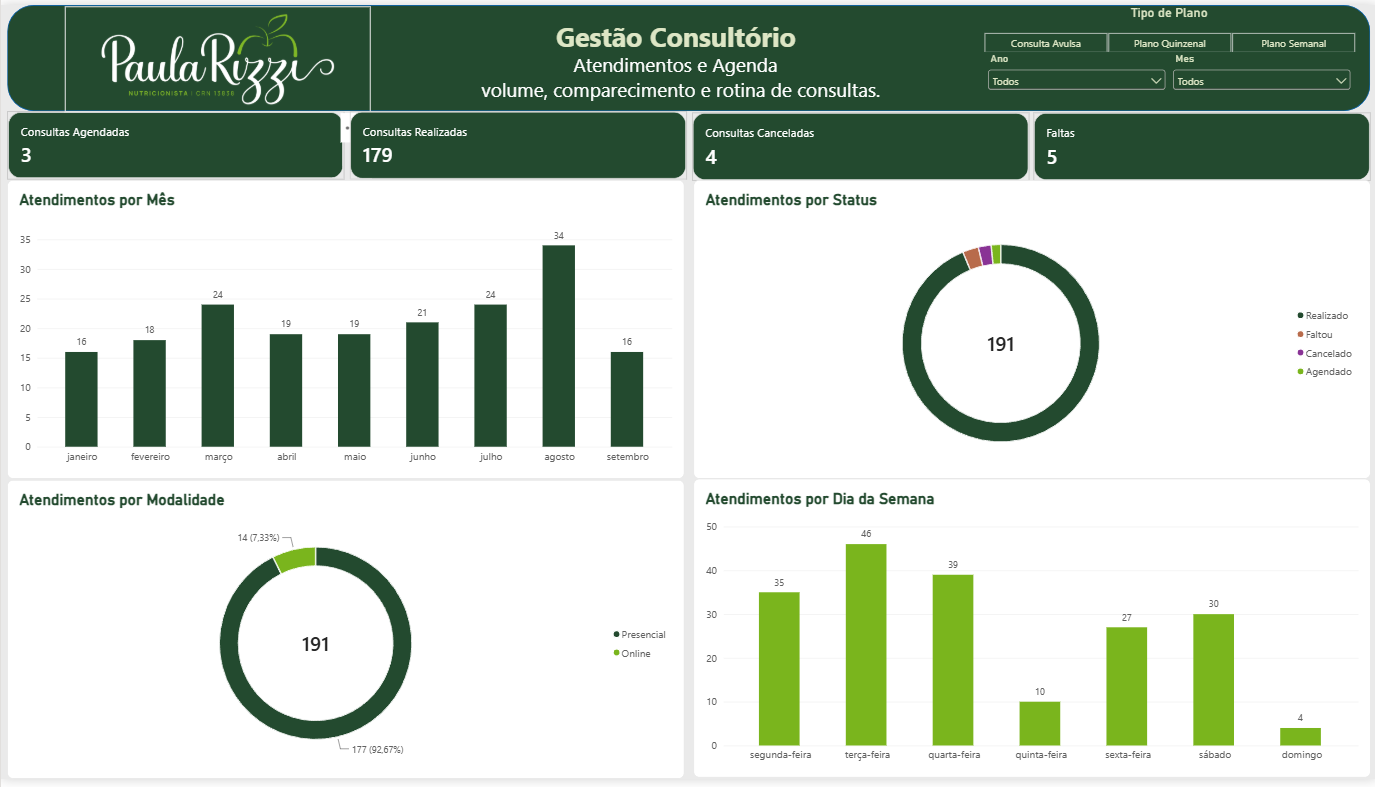

The page's visual inventory and layout, read from the dashboard file:
{"tool":"powerbi","page":{"name":"Atendimento e Agenda","canvas":[1920,1080],"ordinal":2},"visuals":[{"type":"shape","box":[9.4,0,1901.9,148.1],"z":0},{"type":"cardVisual","fields":{"Data":["Medidas.Consultas Agendadas"]},"box":[8.7,149,470,95],"z":1000},{"type":"image","box":[88.9,1.6,427.1,148.1],"z":2000},{"type":"cardVisual","fields":{"Data":["Medidas.Consultas Realizadas"]},"box":[486.3,149,470,95],"z":3000},{"type":"textbox","box":[774.8,18.7,347.9,51.5],"z":4000},{"type":"cardVisual","fields":{"Data":["Medidas.Consultas Canceladas"]},"box":[963.8,149.4,470,95],"z":5000},{"type":"textbox","box":[515.9,64.3,857.4,78.9],"z":6000},{"type":"cardVisual","fields":{"Data":["Medidas.Faltas"]},"box":[1441.3,149.4,470,95],"z":7000},{"type":"slicer","title":"Ano","fields":{"Values":["Calendario.Ano"]},"box":[1373.4,65.5,257,73.3],"z":8000},{"type":"slicer","fields":{"Values":["Calendario.Mes"]},"box":[1630.6,65.5,257,73.3],"z":9000},{"type":"slicer","title":"Tipo de Plano","fields":{"Values":["Planos_Contratos.Tipo_Plano"]},"box":[1351.6,0,556.5,65.5],"z":10000},{"type":"clusteredColumnChart","title":"Atendimentos por Mês","fields":{"Category":["Calendario.Mes"],"Y":["Medidas.Total Atendimentos"]},"box":[9.2,244.2,945,417],"z":11000},{"type":"donutChart","title":"Atendimentos por Status","fields":{"Category":["Atendimentos.Status_Atendimento"],"Y":["Medidas.Total Atendimentos"]},"box":[965.7,244.2,945,417],"z":12000},{"type":"clusteredColumnChart","title":"Atendimentos por Dia da Semana","fields":{"Category":["Calendario.DiaSemana"],"Y":["Medidas.Total Atendimentos"]},"box":[965.7,660.9,945,417],"z":13000},{"type":"donutChart","title":"Atendimentos por Modalidade","fields":{"Category":["Atendimentos.Modalidade"],"Y":["Medidas.Total Atendimentos"]},"box":[9.2,662.8,945,417],"z":14000}]}

Visuals, with their boxes in screenshot pixels (x1, y1, x2, y2), scaled from the page's 1920x1080 canvas onto the 1375x787 screenshot:
shape: (left=7, top=0, right=1369, bottom=108)
cardVisual - Medidas.Consultas Agendadas: (left=6, top=109, right=343, bottom=178)
image: (left=64, top=1, right=370, bottom=109)
cardVisual - Medidas.Consultas Realizadas: (left=348, top=109, right=685, bottom=178)
textbox: (left=555, top=14, right=804, bottom=51)
cardVisual - Medidas.Consultas Canceladas: (left=690, top=109, right=1027, bottom=178)
textbox: (left=369, top=47, right=983, bottom=104)
cardVisual - Medidas.Faltas: (left=1032, top=109, right=1369, bottom=178)
"Ano" slicer: (left=984, top=48, right=1168, bottom=101)
slicer - Calendario.Mes: (left=1168, top=48, right=1352, bottom=101)
"Tipo de Plano" slicer: (left=968, top=0, right=1366, bottom=48)
"Atendimentos por Mês" clusteredColumnChart: (left=7, top=178, right=683, bottom=482)
"Atendimentos por Status" donutChart: (left=692, top=178, right=1368, bottom=482)
"Atendimentos por Dia da Semana" clusteredColumnChart: (left=692, top=482, right=1368, bottom=785)
"Atendimentos por Modalidade" donutChart: (left=7, top=483, right=683, bottom=786)
